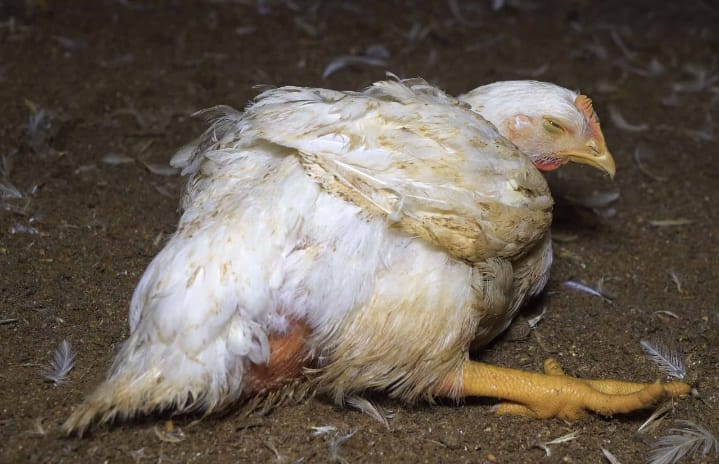Unhealthy: (79, 40, 693, 435)
